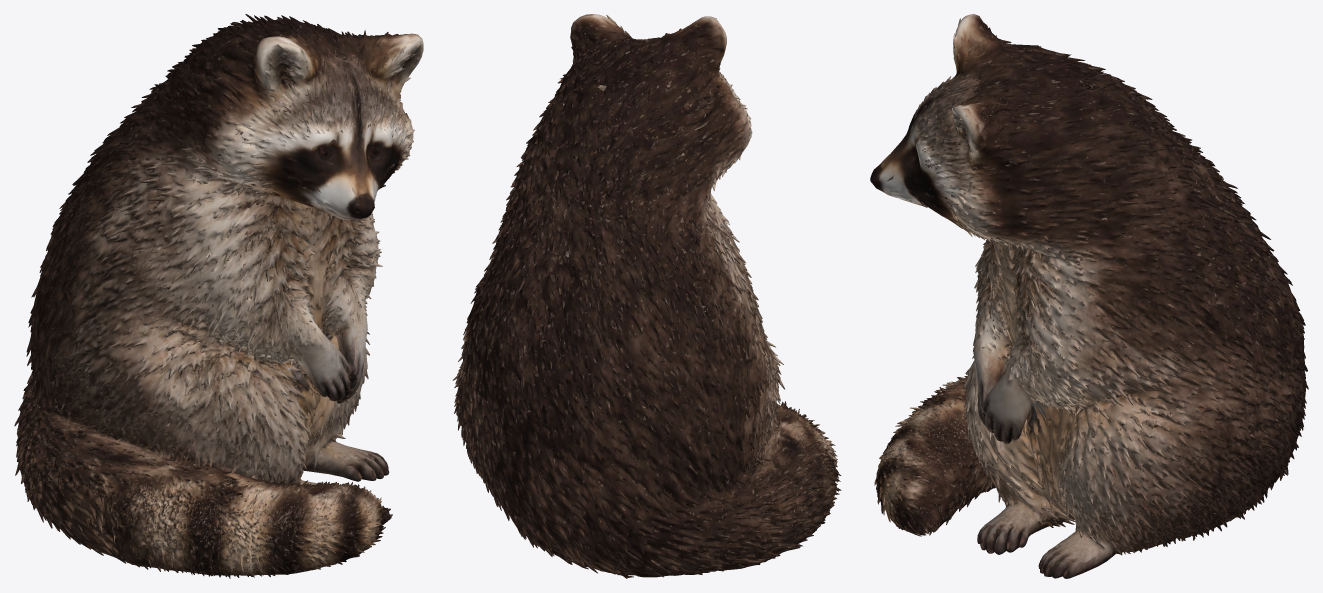
Rendered from raccoon.glb.
The picture shows the model from 3 angles, left to right: view 1: azimuth 30°, elevation 25°; view 2: azimuth 150°, elevation 25°; view 3: azimuth 270°, elevation 25°; orthographic projection. The views are drawn at different scales.
Visible parts, largest first — view 1: raccoon; view 2: raccoon; view 3: raccoon.
Part boxes in pixels (left/top/right/bottom): raccoon: left=14, top=14, right=423, bottom=578; raccoon: left=452, top=14, right=841, bottom=578; raccoon: left=870, top=14, right=1308, bottom=578.
Size of the model in its own units: 0.3017 by 0.4193 by 0.3391.
1 material, 1 textured.
